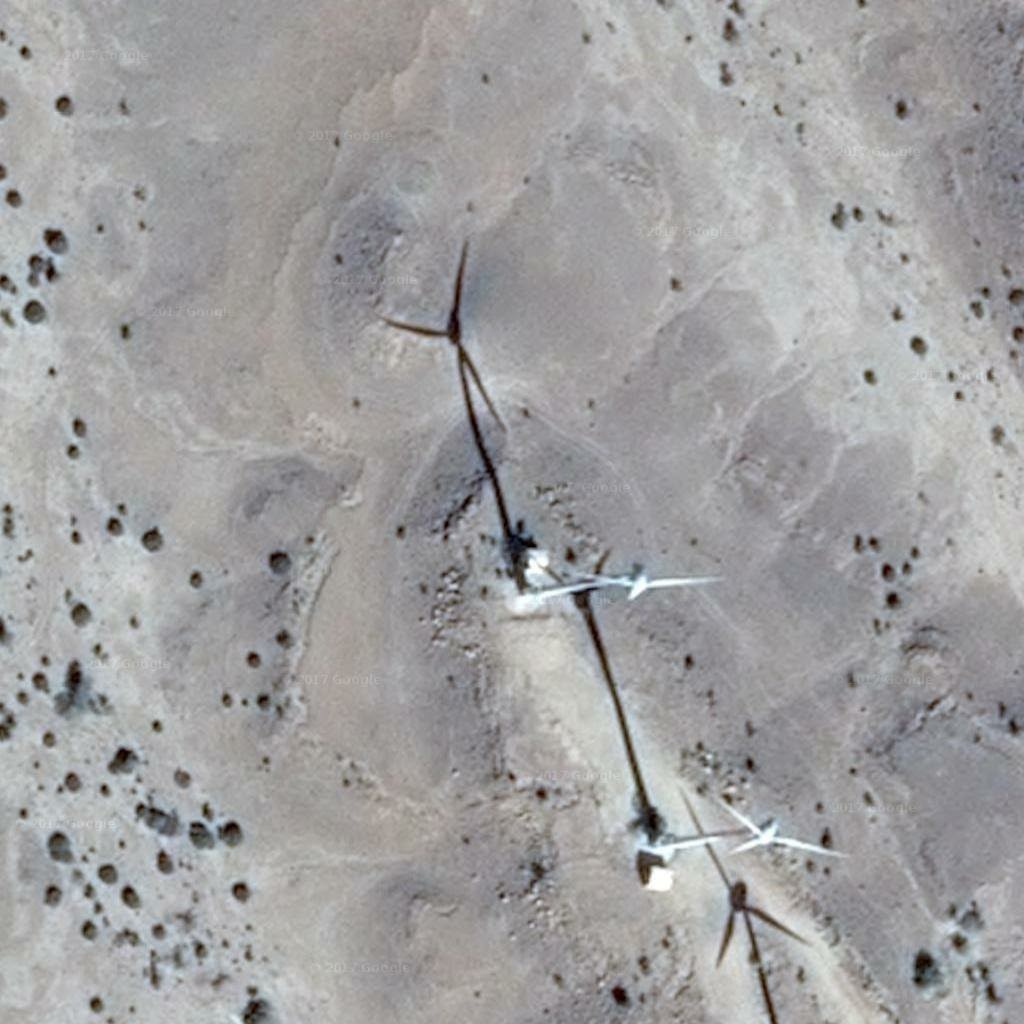Windmill: (349, 265, 564, 548)
